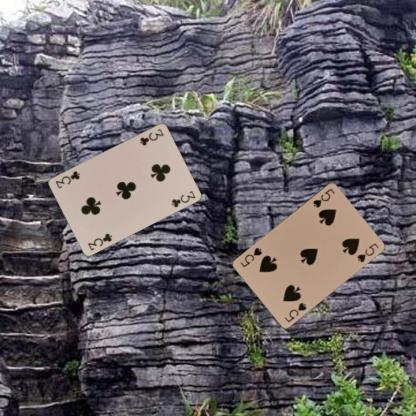3c: (137, 126, 165, 147), (85, 231, 113, 252)
5s: (282, 300, 307, 323), (310, 186, 336, 208)
